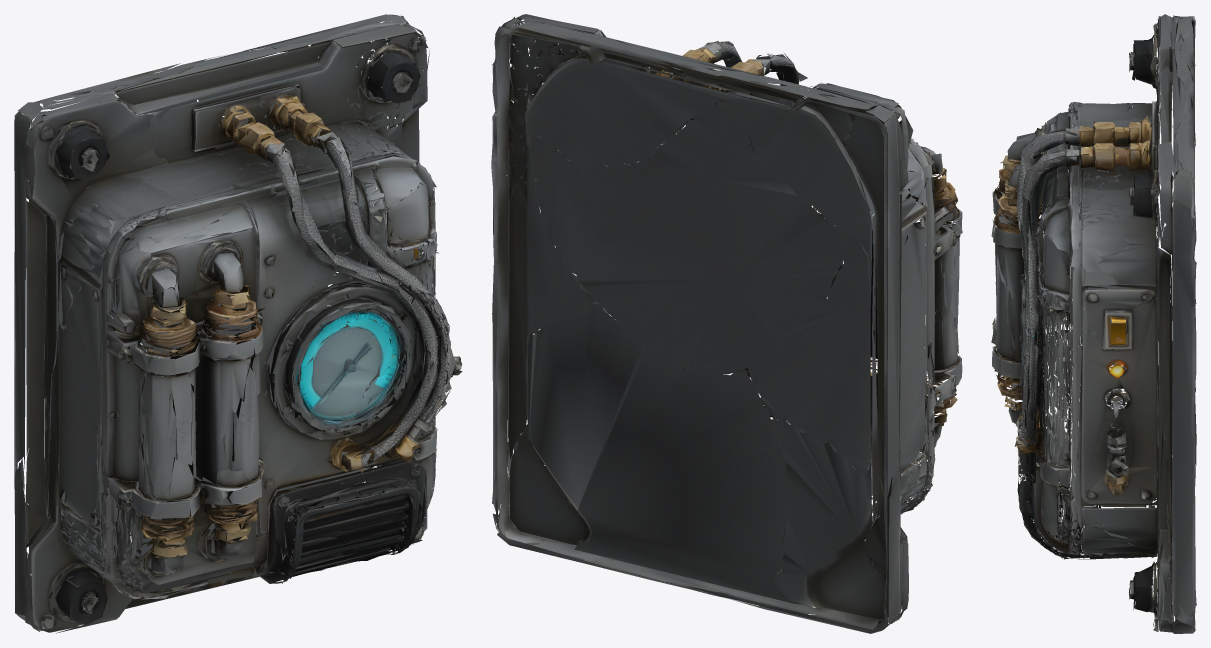
File: base_o2_atmospheric_regulator.glb
3 views of the same model, side by side, from view 1: azimuth 30°, elevation 25°; view 2: azimuth 150°, elevation 25°; view 3: azimuth 270°, elevation 25° (orthographic). The views are drawn at different scales.
Visible parts, largest first — view 1: node_0; view 2: node_0; view 3: node_0.
Part boxes in pixels (x1,y1,x2,y2): node_0: (14, 14, 462, 633); node_0: (491, 14, 962, 633); node_0: (991, 14, 1196, 633).
Size of the model in its own units: 0.7485 by 0.9208 by 0.3688.
Materials: 1 (1 with a texture image).
